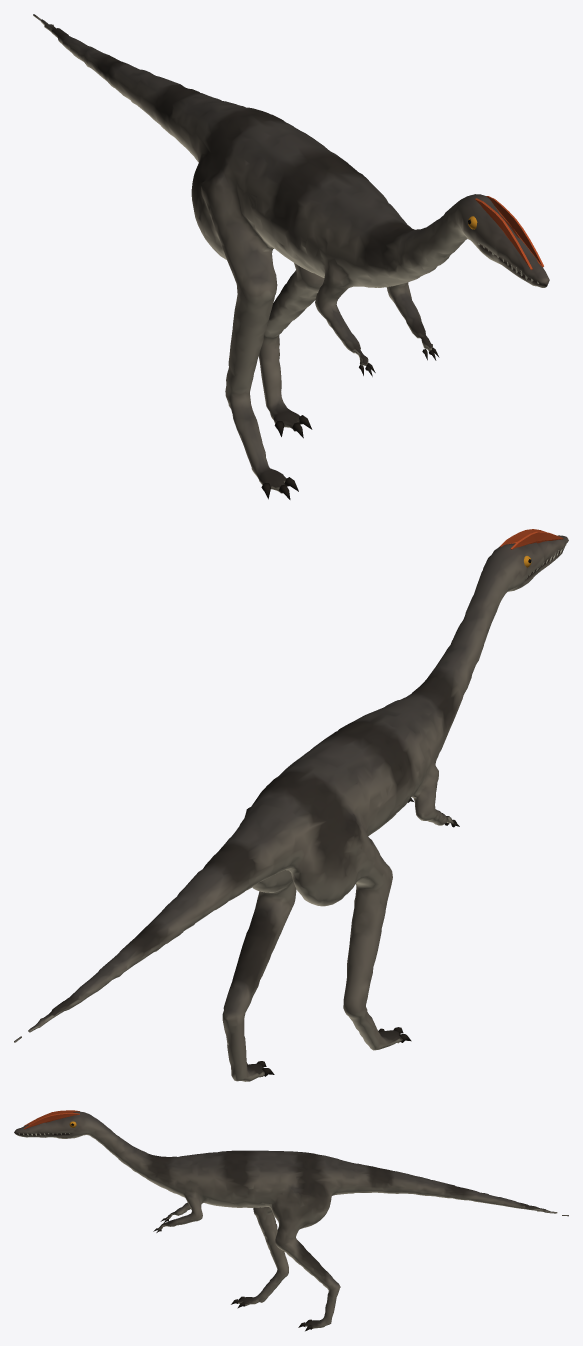
File: Liliensternus.fbx
3 views of the same model, one above another, from view 1: azimuth 30°, elevation 25°; view 2: azimuth 150°, elevation 25°; view 3: azimuth 270°, elevation 25° (orthographic). The views are drawn at different scales.
Parts seen in each view (by area): view 1: Liliensternus; view 2: Liliensternus; view 3: Liliensternus.
Boxes of the visible parts, left/top/right/bottom form: Liliensternus: left=33, top=14, right=549, bottom=499; Liliensternus: left=14, top=529, right=568, bottom=1081; Liliensternus: left=14, top=1110, right=568, bottom=1331.
Bounding box in the file's own units: 0.2424 × 0.8136 × 1.98.
